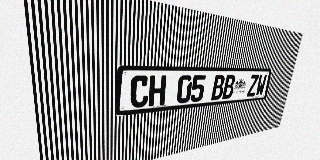0: (176, 75, 193, 104)
5: (190, 75, 206, 102)
B: (211, 75, 225, 100), (222, 75, 236, 99)
C: (130, 75, 149, 108)
H: (148, 75, 167, 106)
W: (255, 75, 267, 96)
Z: (247, 75, 259, 97)
